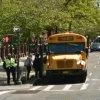Bus: (43, 32, 91, 88)
